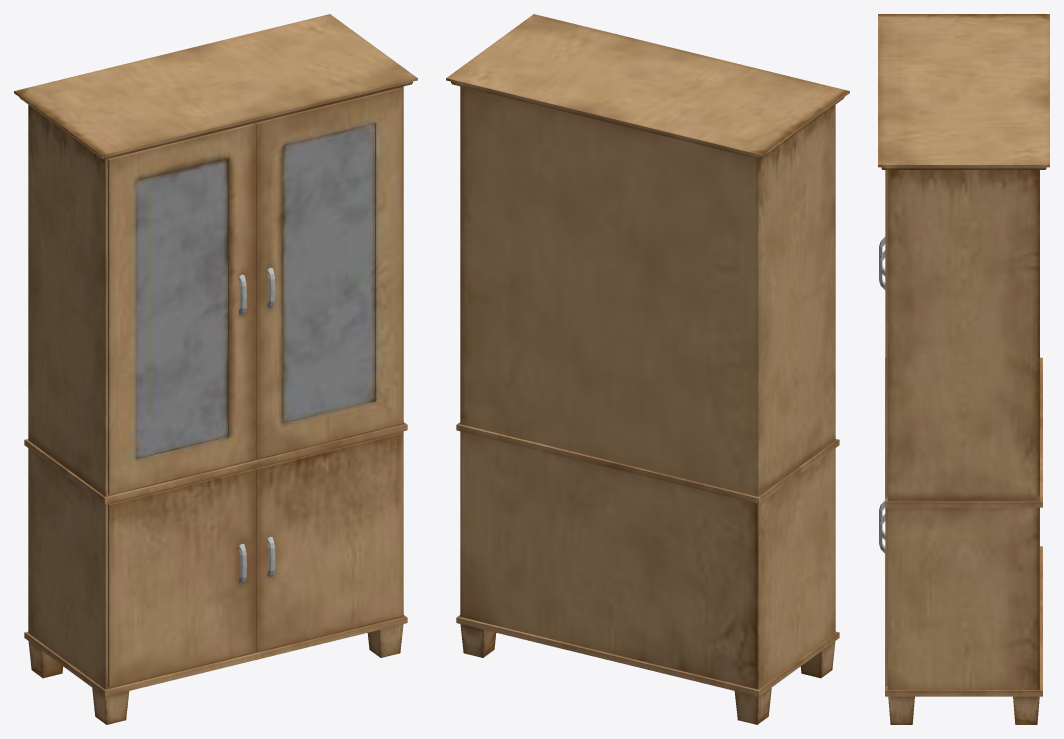
File: cristaleira_a.glb
3 views of the same model, side by side, from view 1: azimuth 30°, elevation 25°; view 2: azimuth 150°, elevation 25°; view 3: azimuth 270°, elevation 25° (orthographic). The views are drawn at different scales.
Visible parts, largest first — view 1: cristaleira_a; view 2: cristaleira_a; view 3: cristaleira_a.
Part boxes in pixels (x1,y1,x2,y2): cristaleira_a: (14, 14, 417, 724); cristaleira_a: (446, 14, 849, 724); cristaleira_a: (878, 14, 1049, 724).
Size of the model in its own units: 1.06 by 1.85 by 0.51.
Materials: 1 (1 with a texture image).
